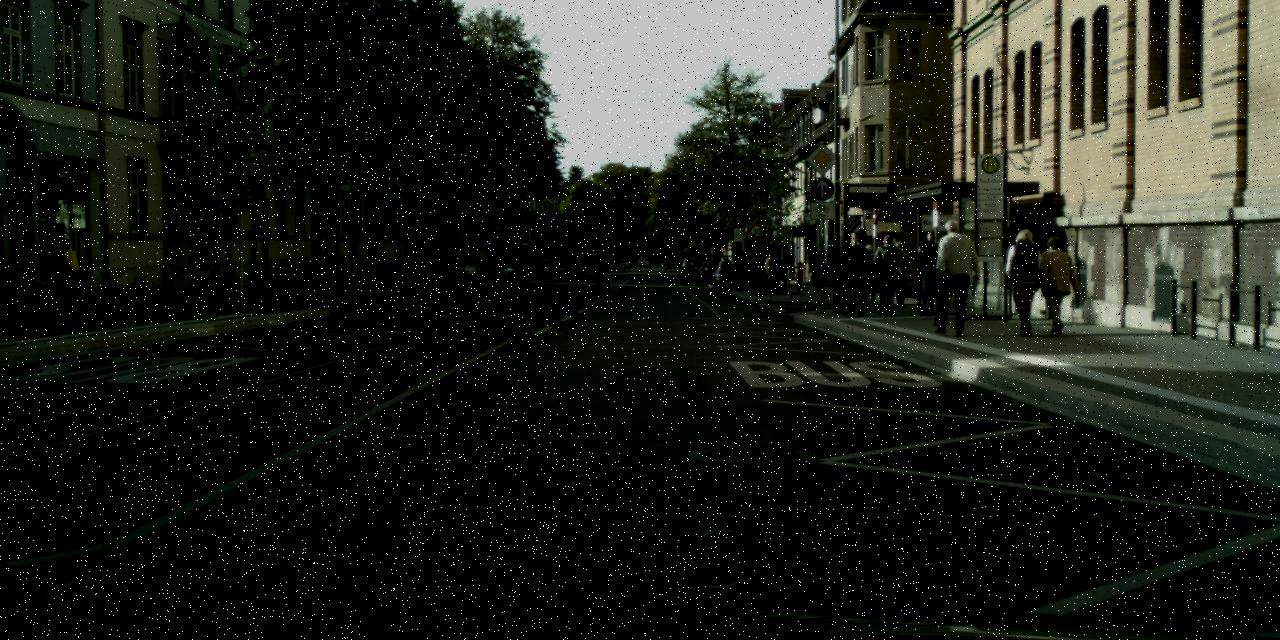ped: (928, 218, 974, 334), (1003, 228, 1047, 334), (39, 222, 80, 324), (1036, 235, 1075, 333), (842, 233, 876, 315), (912, 232, 945, 313), (870, 234, 902, 314), (0, 252, 30, 326), (884, 241, 912, 310), (856, 244, 882, 310), (590, 251, 606, 291), (809, 250, 825, 290), (828, 252, 844, 292), (597, 254, 611, 290), (779, 250, 792, 282), (764, 254, 775, 282), (794, 262, 805, 290), (665, 256, 671, 270)
